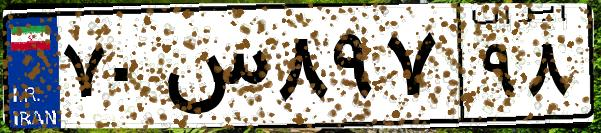0: (110, 28, 158, 98)
7: (385, 28, 445, 110), (57, 26, 110, 100)
8: (270, 28, 330, 110), (525, 38, 570, 115)
9: (330, 28, 385, 110), (475, 38, 525, 113)
س: (158, 20, 270, 120)
